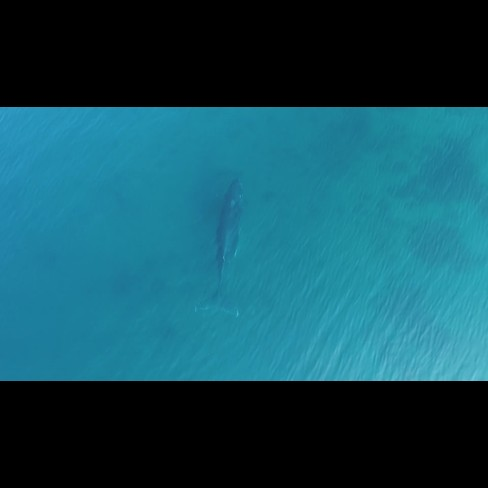hump: (191, 172, 253, 324)
